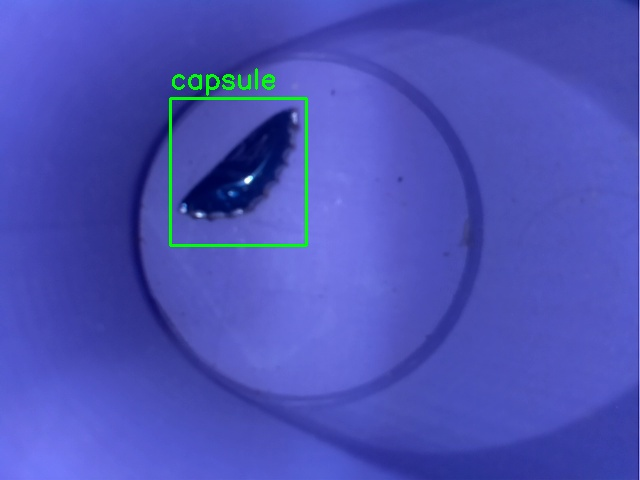capsule: (170, 98, 306, 245)
